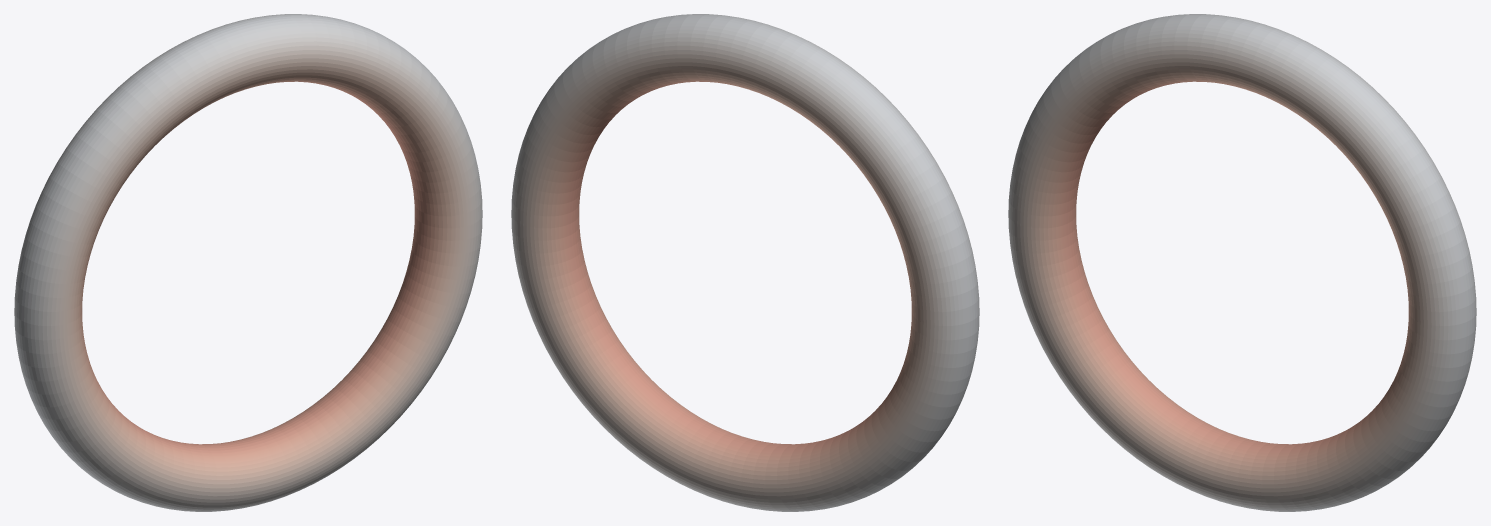
The picture shows the model from 3 angles, left to right: view 1: azimuth 30°, elevation 25°; view 2: azimuth 150°, elevation 25°; view 3: azimuth 330°, elevation 25°; orthographic projection.
Visible parts, largest first — view 1: world; view 2: world; view 3: world.
Part boxes in pixels (bbox=[...]): world: bbox=[14, 14, 482, 511]; world: bbox=[511, 14, 979, 511]; world: bbox=[1008, 14, 1476, 511].
Size of the model in its own units: 34.4 by 34.4 by 4.39.
